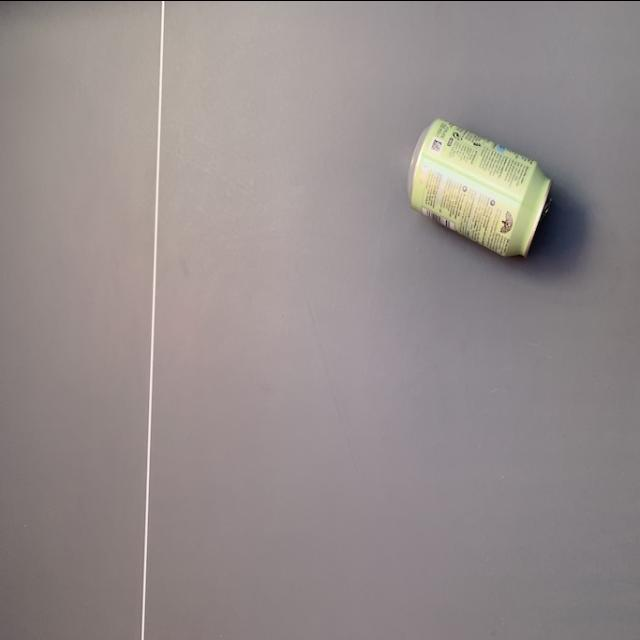litter: (403, 108, 564, 270)
